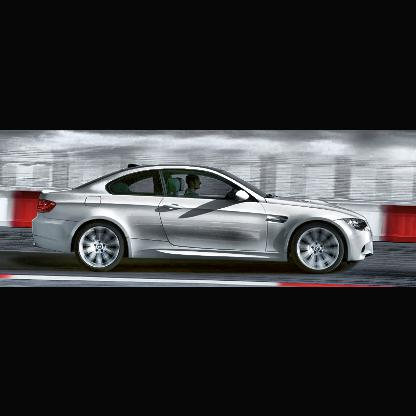BMW M3 Coupe 2012: (31, 165, 374, 276)
